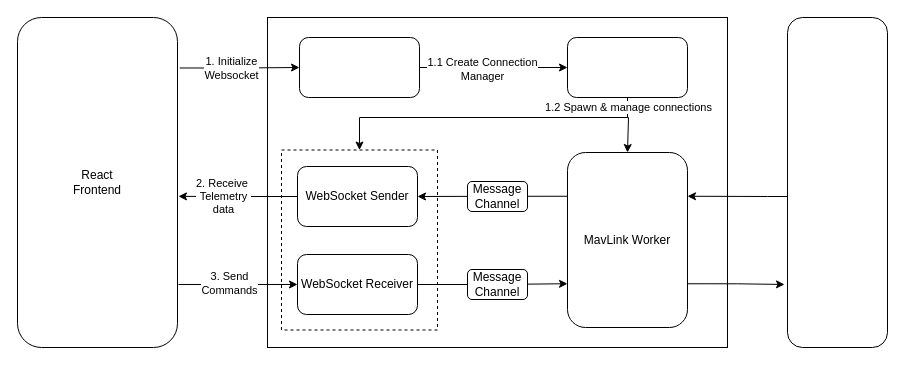
The diagram is 905 pixels wide and 365 high, and some of its shapes have lost their labels. Here are the shapes that lost their labels. From the top down, the centre of each, then its label:
the point at 359,67: WebSocket Server
the point at 627,67: Connection Manager
the point at 837,182: MavLink Simulator (PX4)
